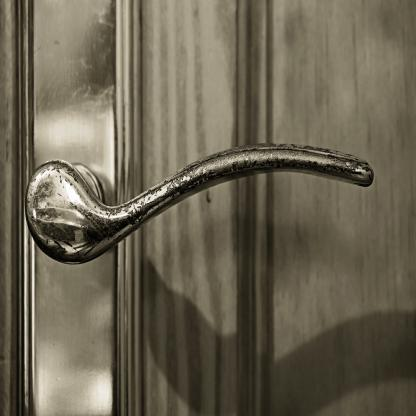door: (18, 0, 415, 415)
lever: (26, 141, 375, 264)
